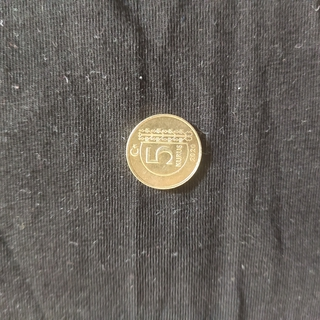5KURUS: (124, 112, 204, 192)
